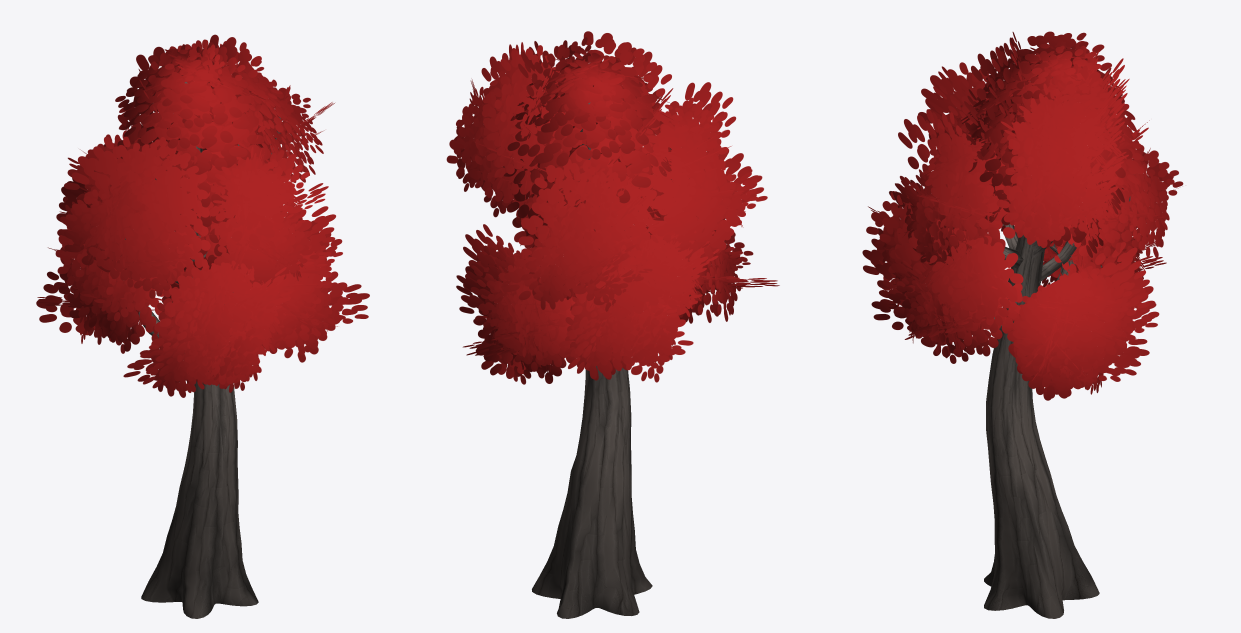
Rendered from Tree.glb.
3 renders of one model, left to right at view 1: azimuth 30°, elevation 25°; view 2: azimuth 150°, elevation 25°; view 3: azimuth 270°, elevation 25°, orthographic. The views are drawn at different scales.
Parts seen in each view (by area): view 1: CommonTree_1; view 2: CommonTree_1; view 3: CommonTree_1.
Part boxes in pixels (bbox=[...]): CommonTree_1: bbox=[36, 34, 369, 618]; CommonTree_1: bbox=[446, 31, 779, 618]; CommonTree_1: bbox=[862, 31, 1183, 618].
Size of the model in its own units: 4.31 by 7.26 by 4.58.
2 materials, 2 textured.
